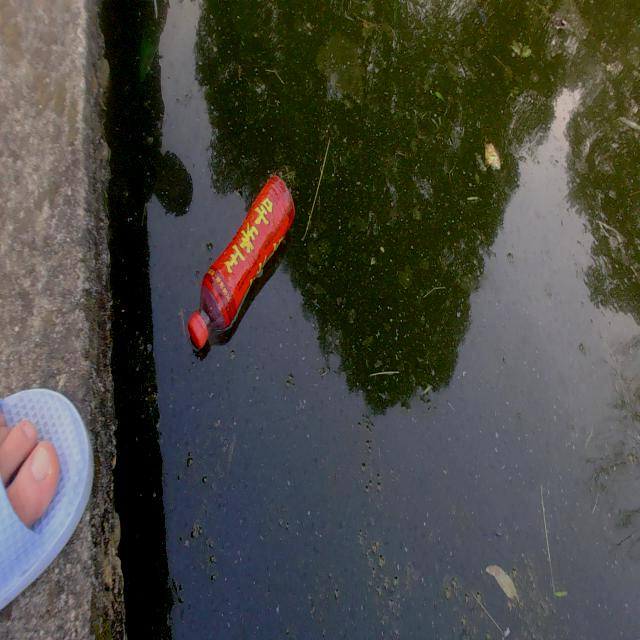bottle: (172, 168, 313, 356)
